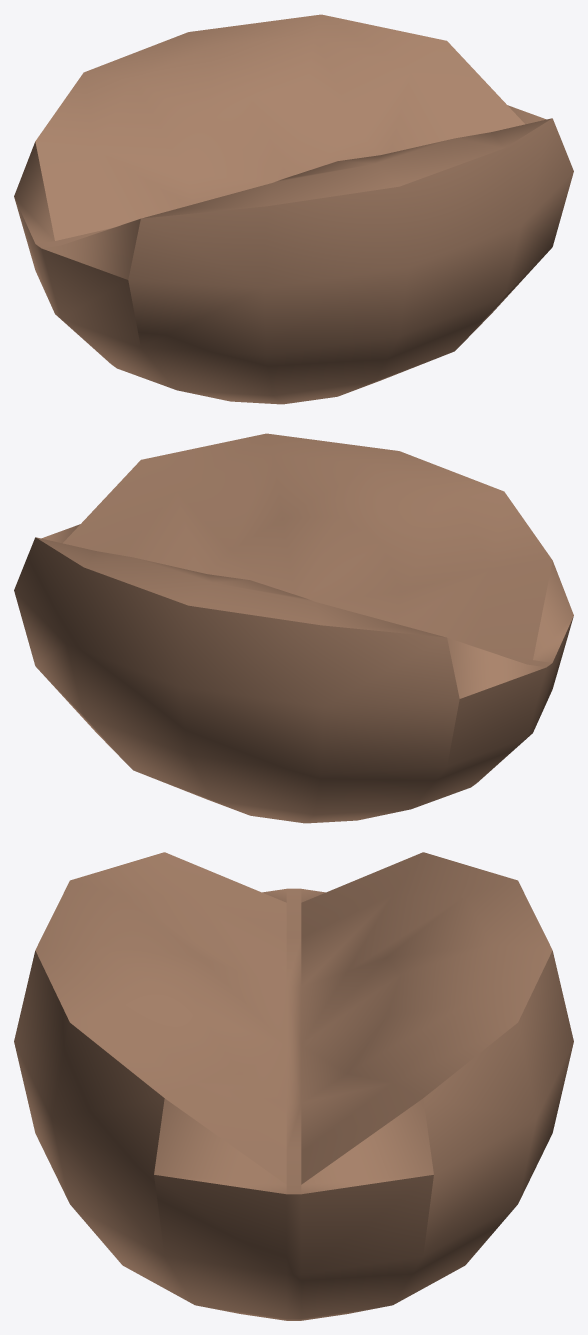
The model's file is bean.fbx.
3 renders of one model, top to bottom at view 1: azimuth 30°, elevation 25°; view 2: azimuth 150°, elevation 25°; view 3: azimuth 270°, elevation 25°, orthographic. The views are drawn at different scales.
Visible parts, largest first — view 1: bean; view 2: bean; view 3: bean.
Part boxes in pixels (bbox=[...]): bean: bbox=[14, 14, 573, 404]; bean: bbox=[14, 433, 573, 823]; bean: bbox=[14, 852, 573, 1320].
Size of the model in its own units: 12.91 by 6.61 by 10.
